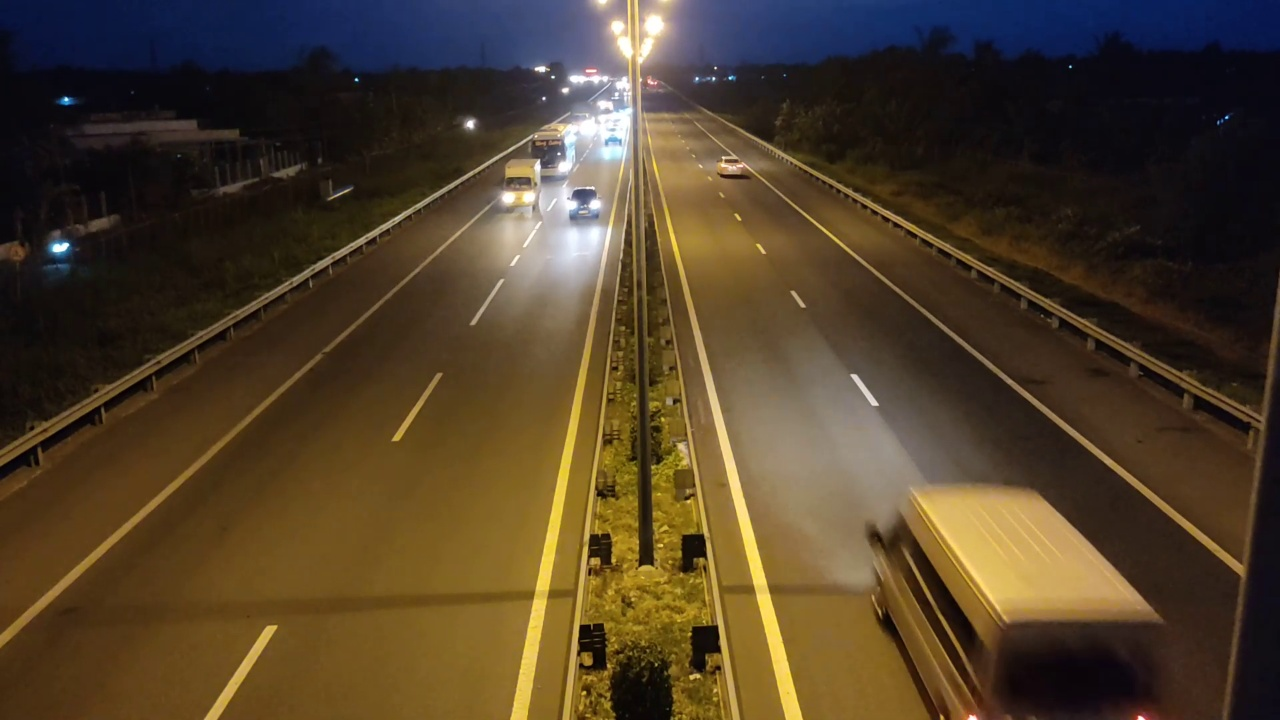car: (566, 185, 602, 221), (717, 156, 749, 177)
truck: (863, 481, 1176, 716)
